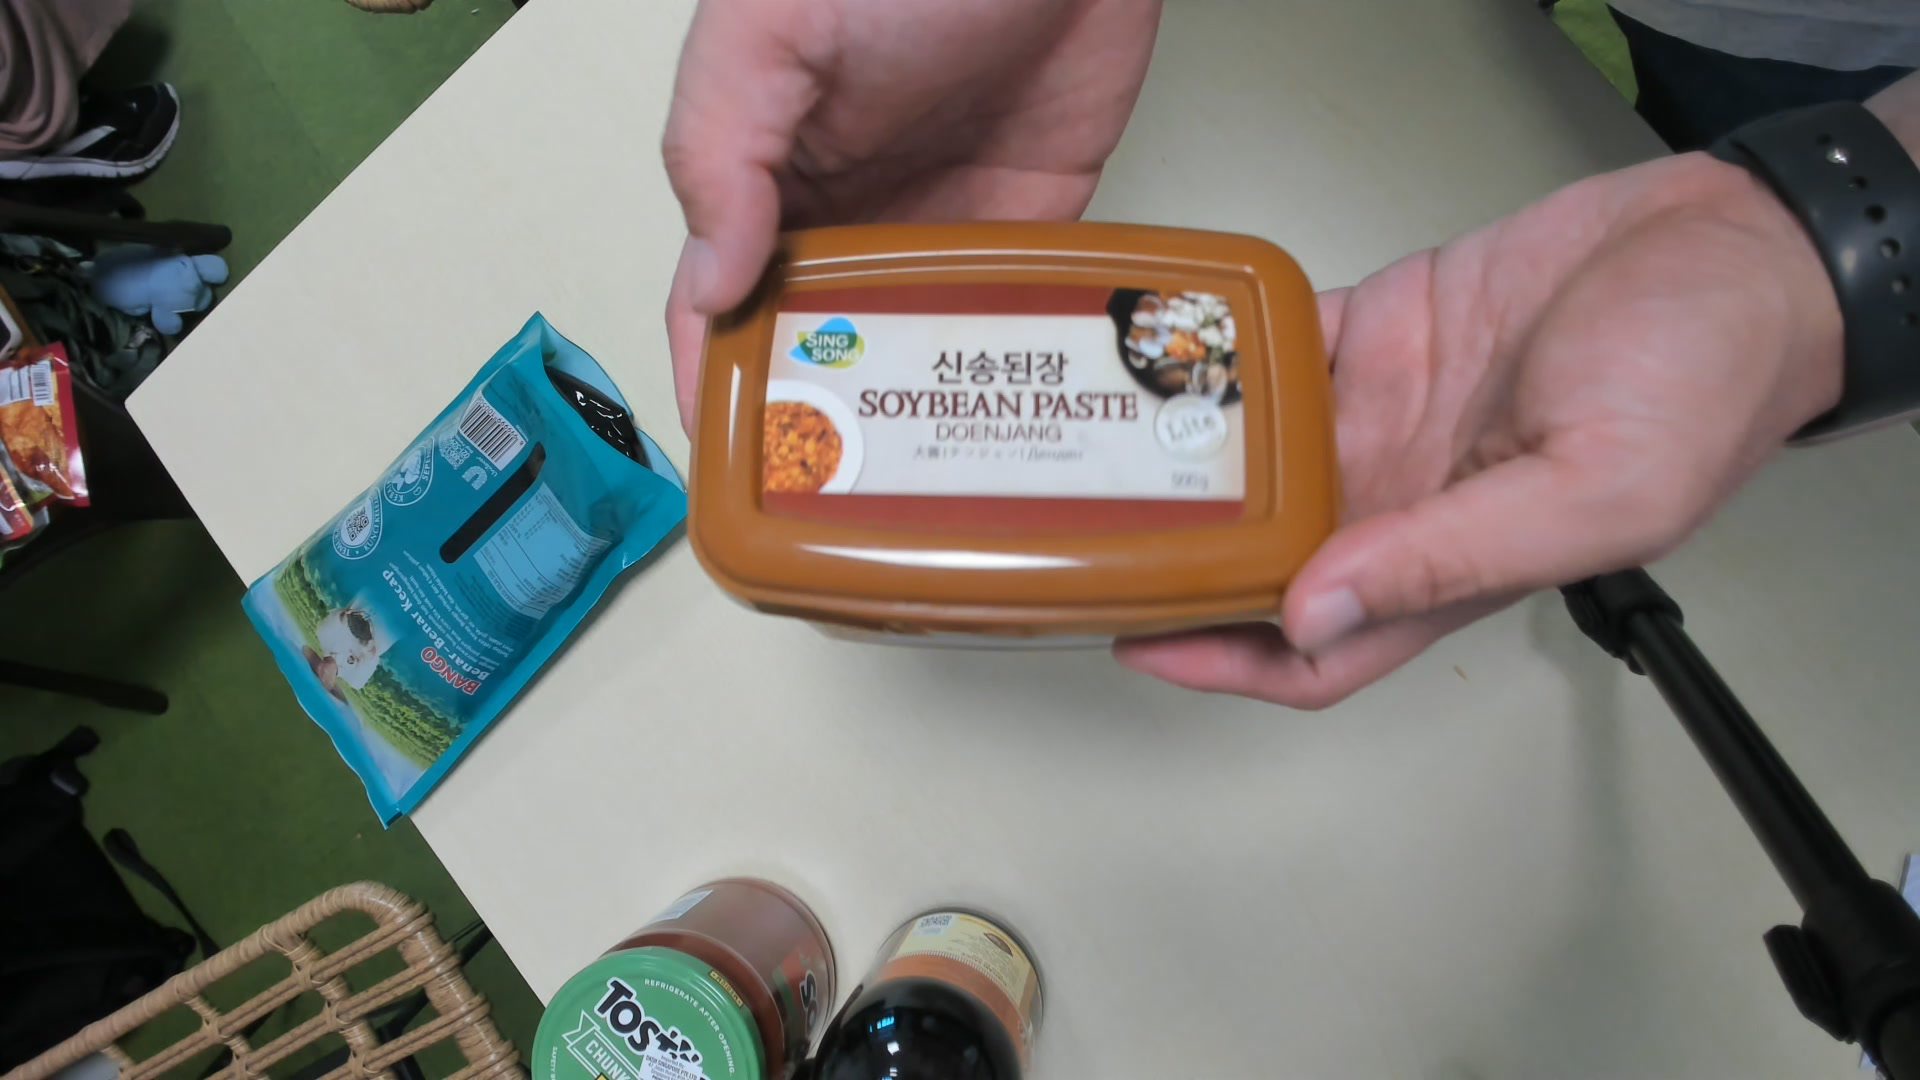OtherSauceDressing_500-599g_NonHalal_NonHealthy: (684, 224, 1336, 650)
